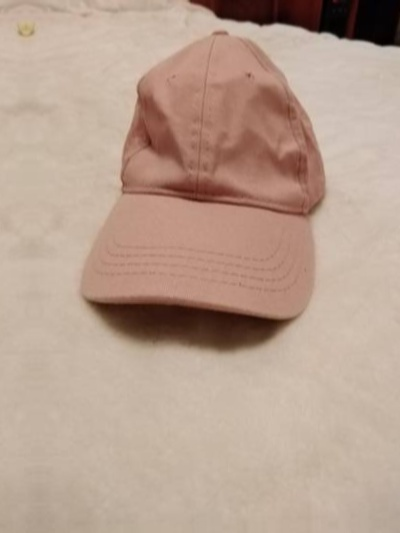Hat: (85, 32, 340, 346)
